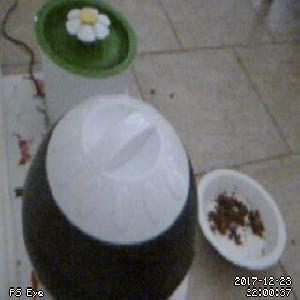fountain: (33, 1, 138, 79)
